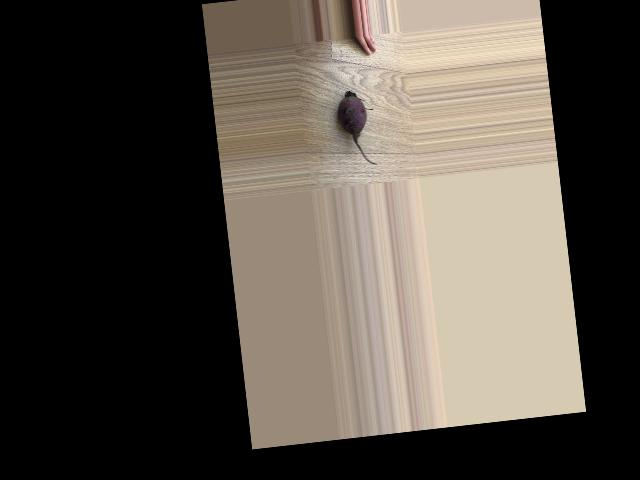beet: (335, 89, 379, 168)
